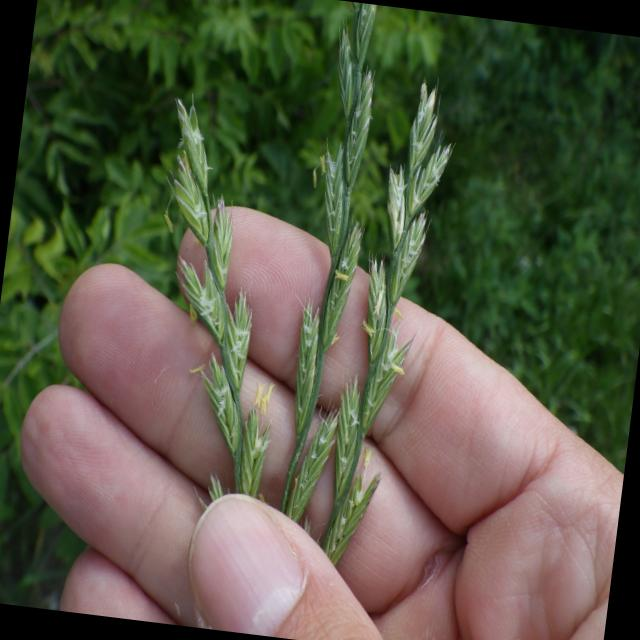Lolium: (117, 0, 473, 577)
